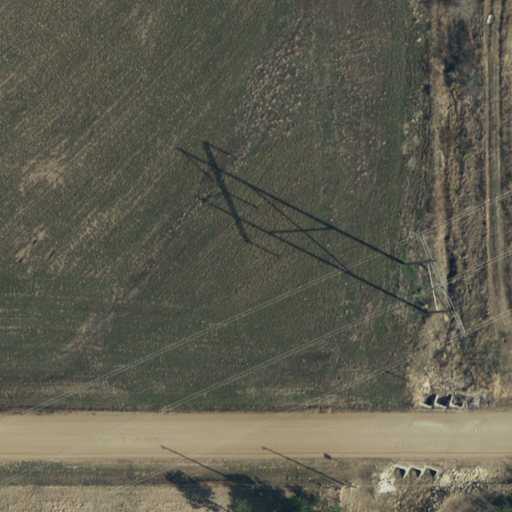DT: (245, 475, 270, 500), (340, 477, 362, 495)
TT: (405, 229, 471, 343)
